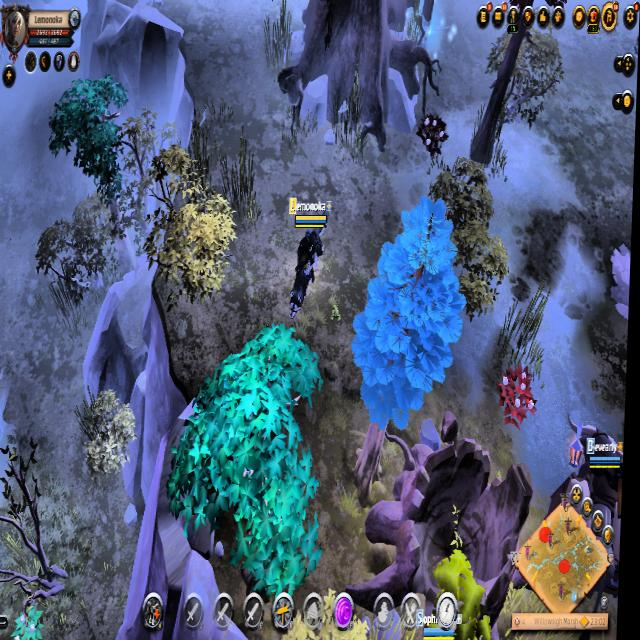fiber tier 5: (499, 366, 541, 435), (418, 113, 452, 162)
wood tier 3: (169, 326, 333, 588), (50, 77, 128, 197)
wood tier 4: (349, 194, 472, 438)
